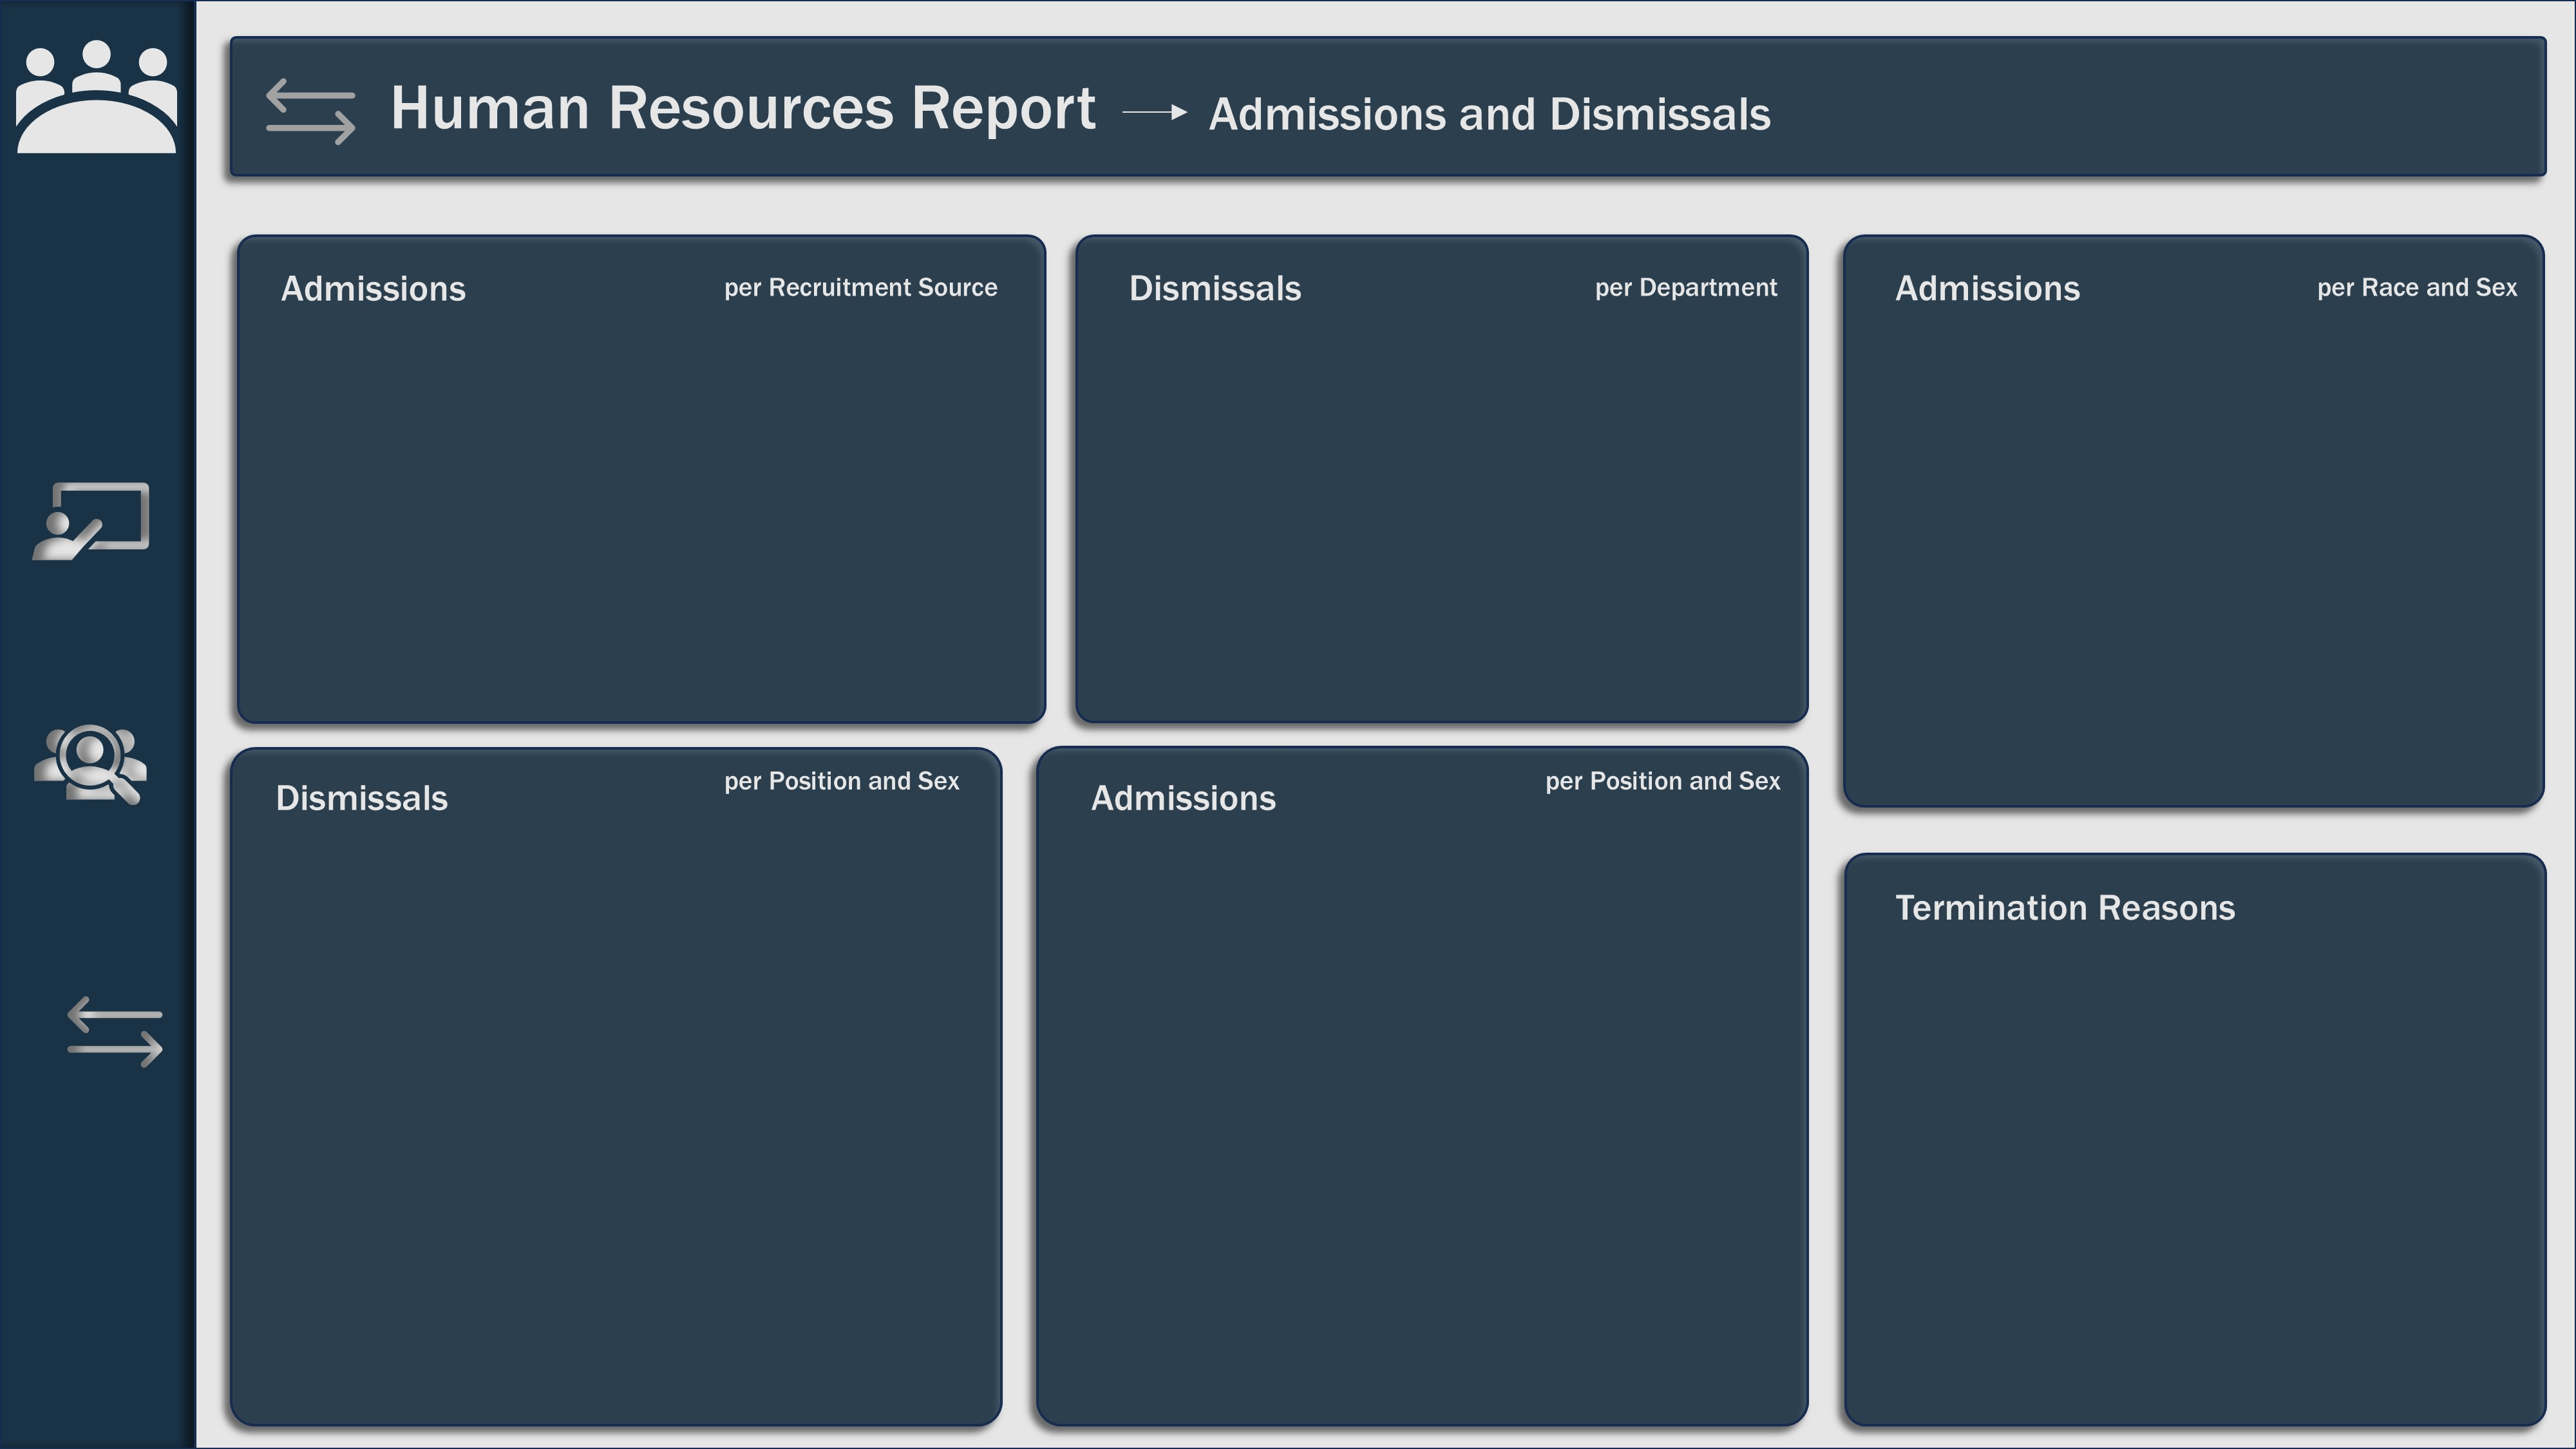

This screenshot's page, from the dashboard's own definition file:
{"tool":"powerbi","page":{"name":"Contratações e Desligamentos","canvas":[1280,720],"ordinal":2},"visuals":[{"type":"funnel","fields":{"Category":["dContratacoes.RecruitmentSource"],"Y":["Medidas.admissoes"]},"box":[123.8,154.8,389.9,205.1],"z":0},{"type":"barChart","fields":{"Category":["dDesligamentos.Position"],"Series":["dDesligamentos.Sex"],"Y":["Medidas.desligamentos"]},"box":[116.1,403.4,397.6,308.6],"z":1000},{"type":"columnChart","fields":{"Category":["dDesligamentos.Department"],"Y":["Medidas.desligamentos"]},"box":[513.7,154.8,402.5,205.1],"z":2000},{"type":"barChart","fields":{"Y":["Medidas.admissoes"],"Category":["dContratacoes.Position"],"Series":["dContratacoes.Sex"]},"box":[513.7,400.5,411.2,311.5],"z":3000},{"type":"barChart","fields":{"Category":["dDesligamentos.TermReason"],"Y":["Medidas.desligamentos"]},"box":[933.6,470.2,325.1,231.2],"z":4000},{"type":"hundredPercentStackedColumnChart","fields":{"Y":["Medidas.admissoes"],"Category":["dContratacoes.RaceDesc"],"Series":["dContratacoes.Sex"]},"box":[894,154.8,386,245.7],"z":5000},{"type":"image","box":[6.8,221.6,77.4,73.5],"z":6000},{"type":"image","box":[9.7,336.7,69.7,85.1],"z":7000}]}

Visuals, with their boxes on the page's 1280x720 design canvas (x1, y1, x2, y2). These are canvas units, not pixel positions in the 2576x1449 screenshot, which may show the page scaled, cropped or inside an application window:
funnel - dContratacoes.RecruitmentSource x Medidas.admissoes: [left=124, top=155, right=514, bottom=360]
barChart - dDesligamentos.Position x dDesligamentos.Sex: [left=116, top=403, right=514, bottom=712]
columnChart - dDesligamentos.Department x Medidas.desligamentos: [left=514, top=155, right=916, bottom=360]
barChart - Medidas.admissoes x dContratacoes.Position: [left=514, top=400, right=925, bottom=712]
barChart - dDesligamentos.TermReason x Medidas.desligamentos: [left=934, top=470, right=1259, bottom=701]
hundredPercentStackedColumnChart - Medidas.admissoes x dContratacoes.RaceDesc: [left=894, top=155, right=1280, bottom=400]
image: [left=7, top=222, right=84, bottom=295]
image: [left=10, top=337, right=79, bottom=422]
